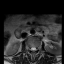CCS_normal: (32, 44, 34, 54)
LFS_normal: (36, 45, 38, 52)
LLS_normal: (34, 44, 36, 53)
RFS_normal: (28, 44, 30, 52)
RLS_normal: (30, 45, 32, 52)
